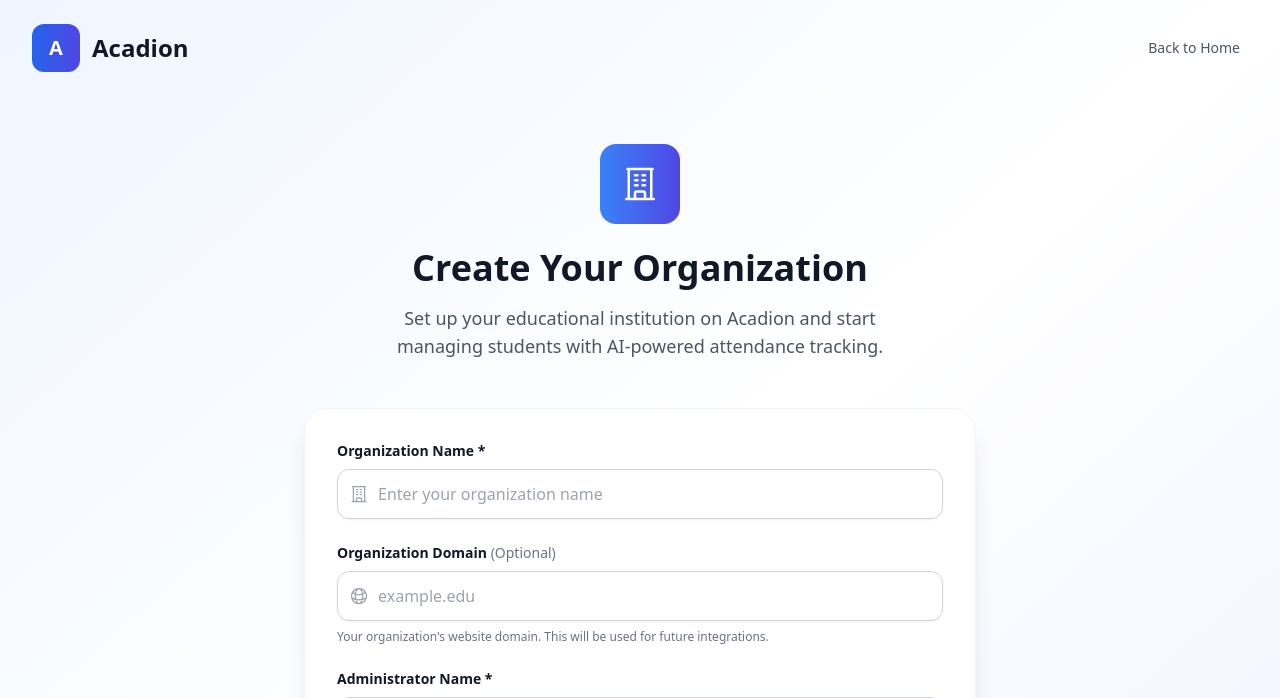
Scenario: OrganizationOnboarding › Availability Checking › handles availability check errors with retry functionality
Type "Test University" into the field labelled "Organization Name *" at (640, 494), box top-left (337, 469), bottom-right (943, 519)
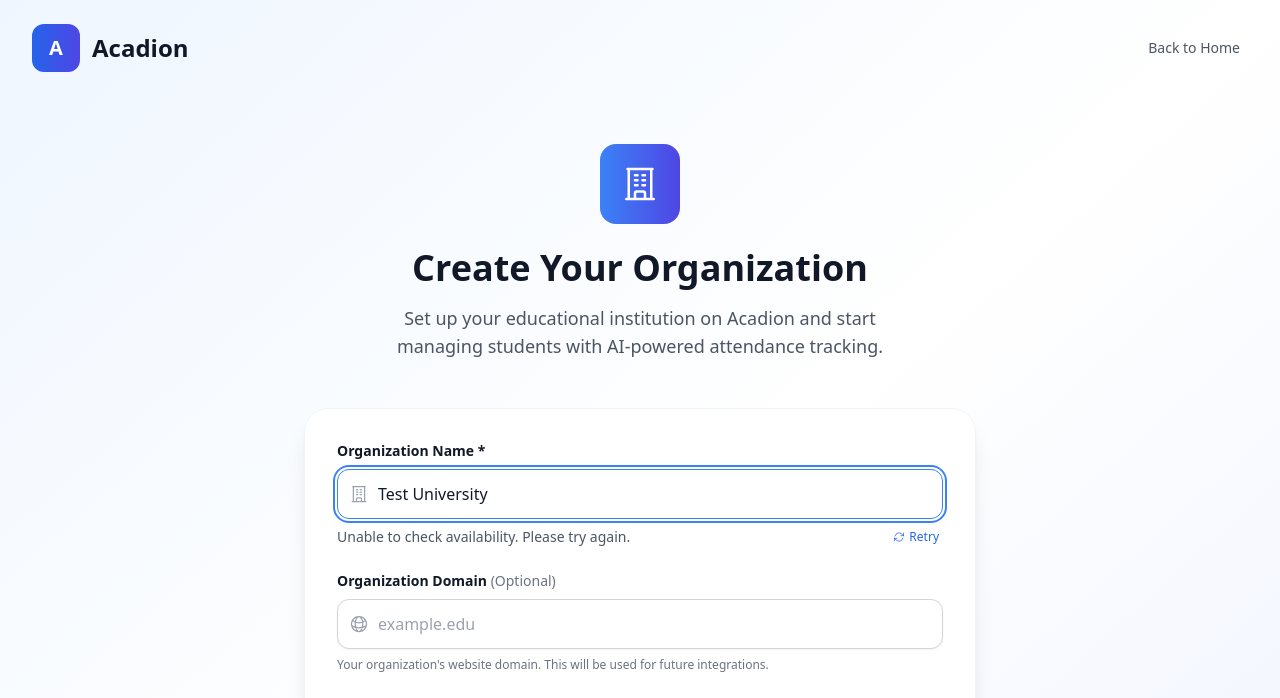
Now the text "Unable to check availability. Please try again." is shown, box top-left (337, 527), bottom-right (630, 547)
Now the button "Retry" is shown
Click the button "Retry" at (916, 537), box top-left (889, 527), bottom-right (943, 547)
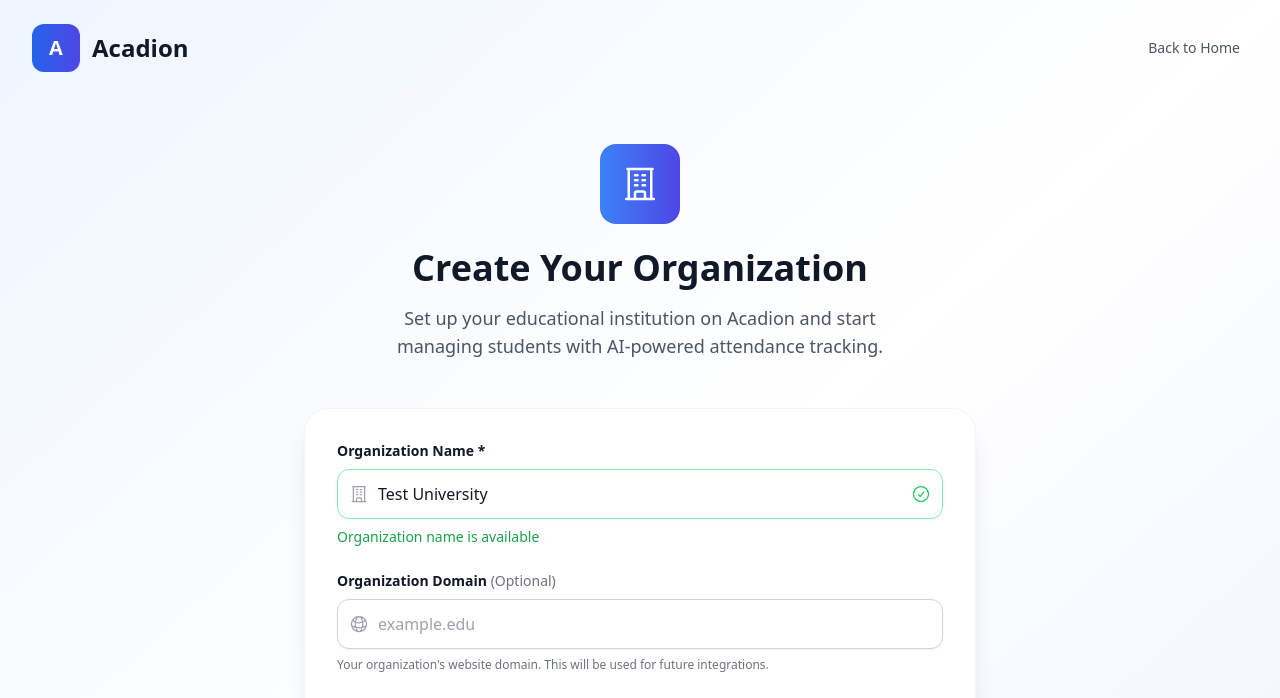
Now the text "Organization name is available" is shown, box top-left (337, 527), bottom-right (539, 547)
